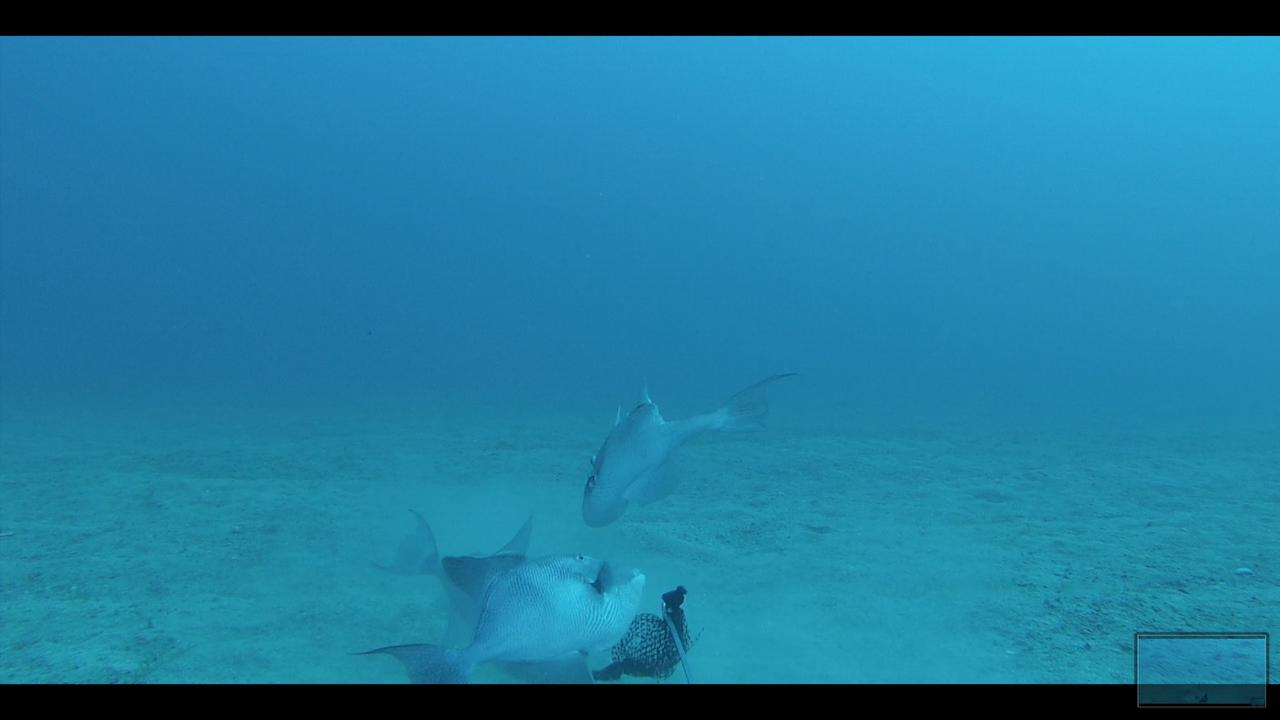balistes: (340, 533, 646, 682), (566, 363, 800, 529)
